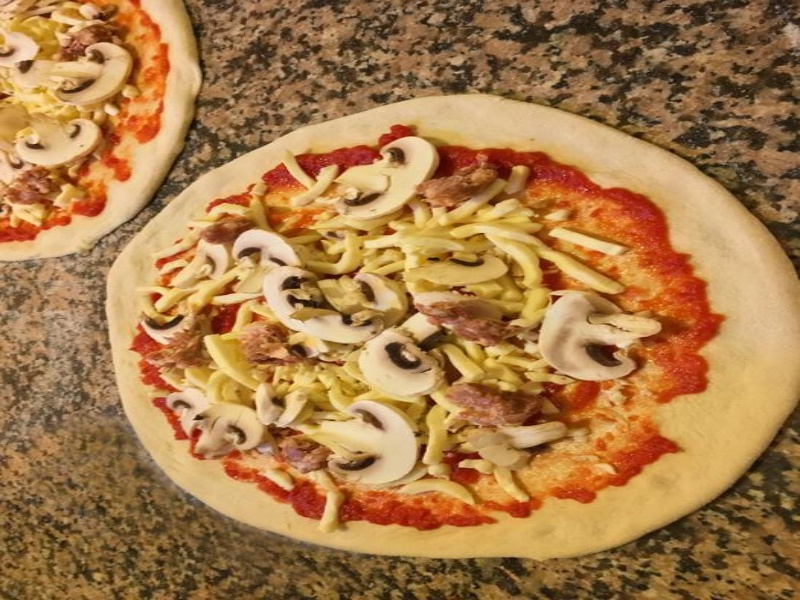champignon: (250, 259, 409, 342), (533, 285, 652, 387), (302, 397, 423, 491), (327, 133, 445, 222), (357, 324, 453, 399), (9, 106, 112, 173), (50, 38, 138, 106), (186, 397, 266, 463)
